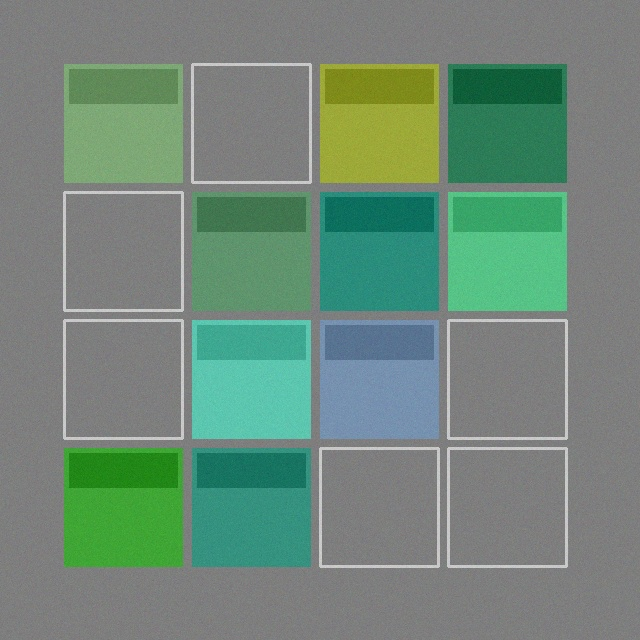space-empty: (192, 64, 310, 182), (64, 192, 182, 310), (64, 320, 182, 438), (448, 320, 566, 438), (320, 448, 438, 566), (448, 448, 566, 566)
space-occupied: (64, 64, 182, 182), (320, 64, 438, 182), (448, 64, 566, 182), (192, 192, 310, 310), (320, 192, 438, 310), (448, 192, 566, 310), (192, 320, 310, 438), (320, 320, 438, 438), (64, 448, 182, 566), (192, 448, 310, 566)
